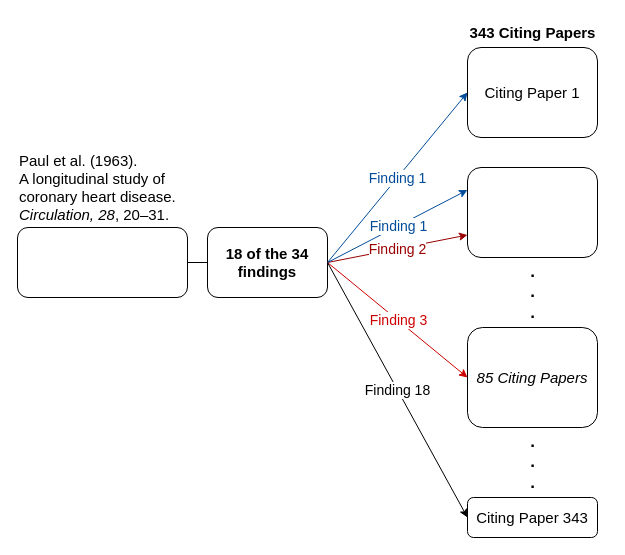
Image size: 625x555. Some labels were removed from this diagram. The box of each missing label's shape, as (x1, y1, x2, y2) in pixels:
34 findings: (16, 226, 188, 298)
Citing Paper 2: (466, 166, 598, 258)
